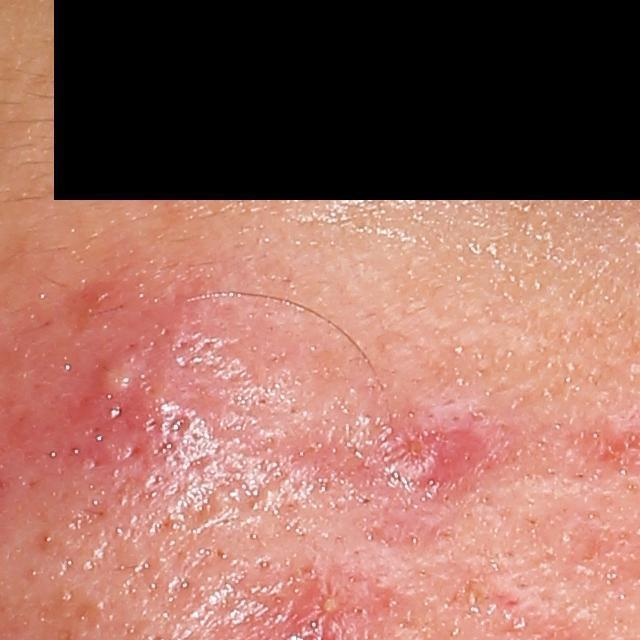papule: (365, 394, 496, 501)
